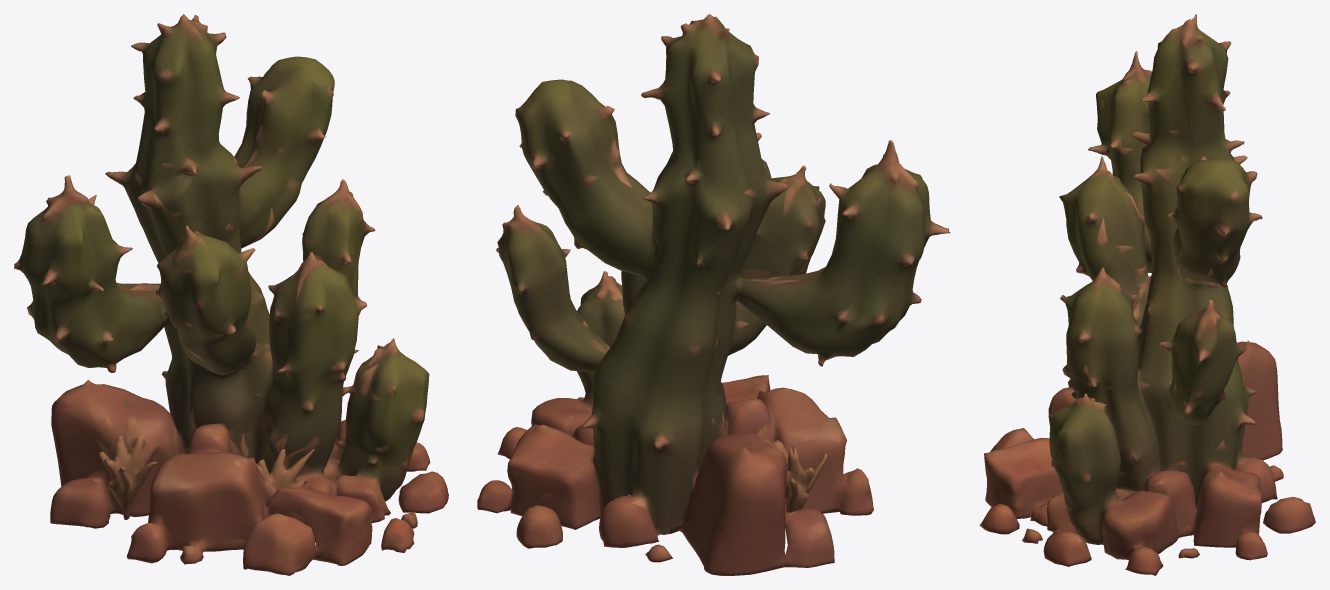
The model's file is cactus.glb.
3 views of the same model, side by side, from view 1: azimuth 30°, elevation 25°; view 2: azimuth 150°, elevation 25°; view 3: azimuth 270°, elevation 25° (orthographic). The views are drawn at different scales.
Parts seen in each view (by area): view 1: tripo_node_ad73a4dd; view 2: tripo_node_ad73a4dd; view 3: tripo_node_ad73a4dd.
Part boxes in pixels (left/top/right/bottom): tripo_node_ad73a4dd: left=14, top=14, right=448, bottom=575; tripo_node_ad73a4dd: left=477, top=14, right=950, bottom=575; tripo_node_ad73a4dd: left=979, top=14, right=1315, bottom=575.
Bounding box in the file's own units: 83.39 × 95.74 × 63.5.
Materials: 1 (1 with a texture image).
